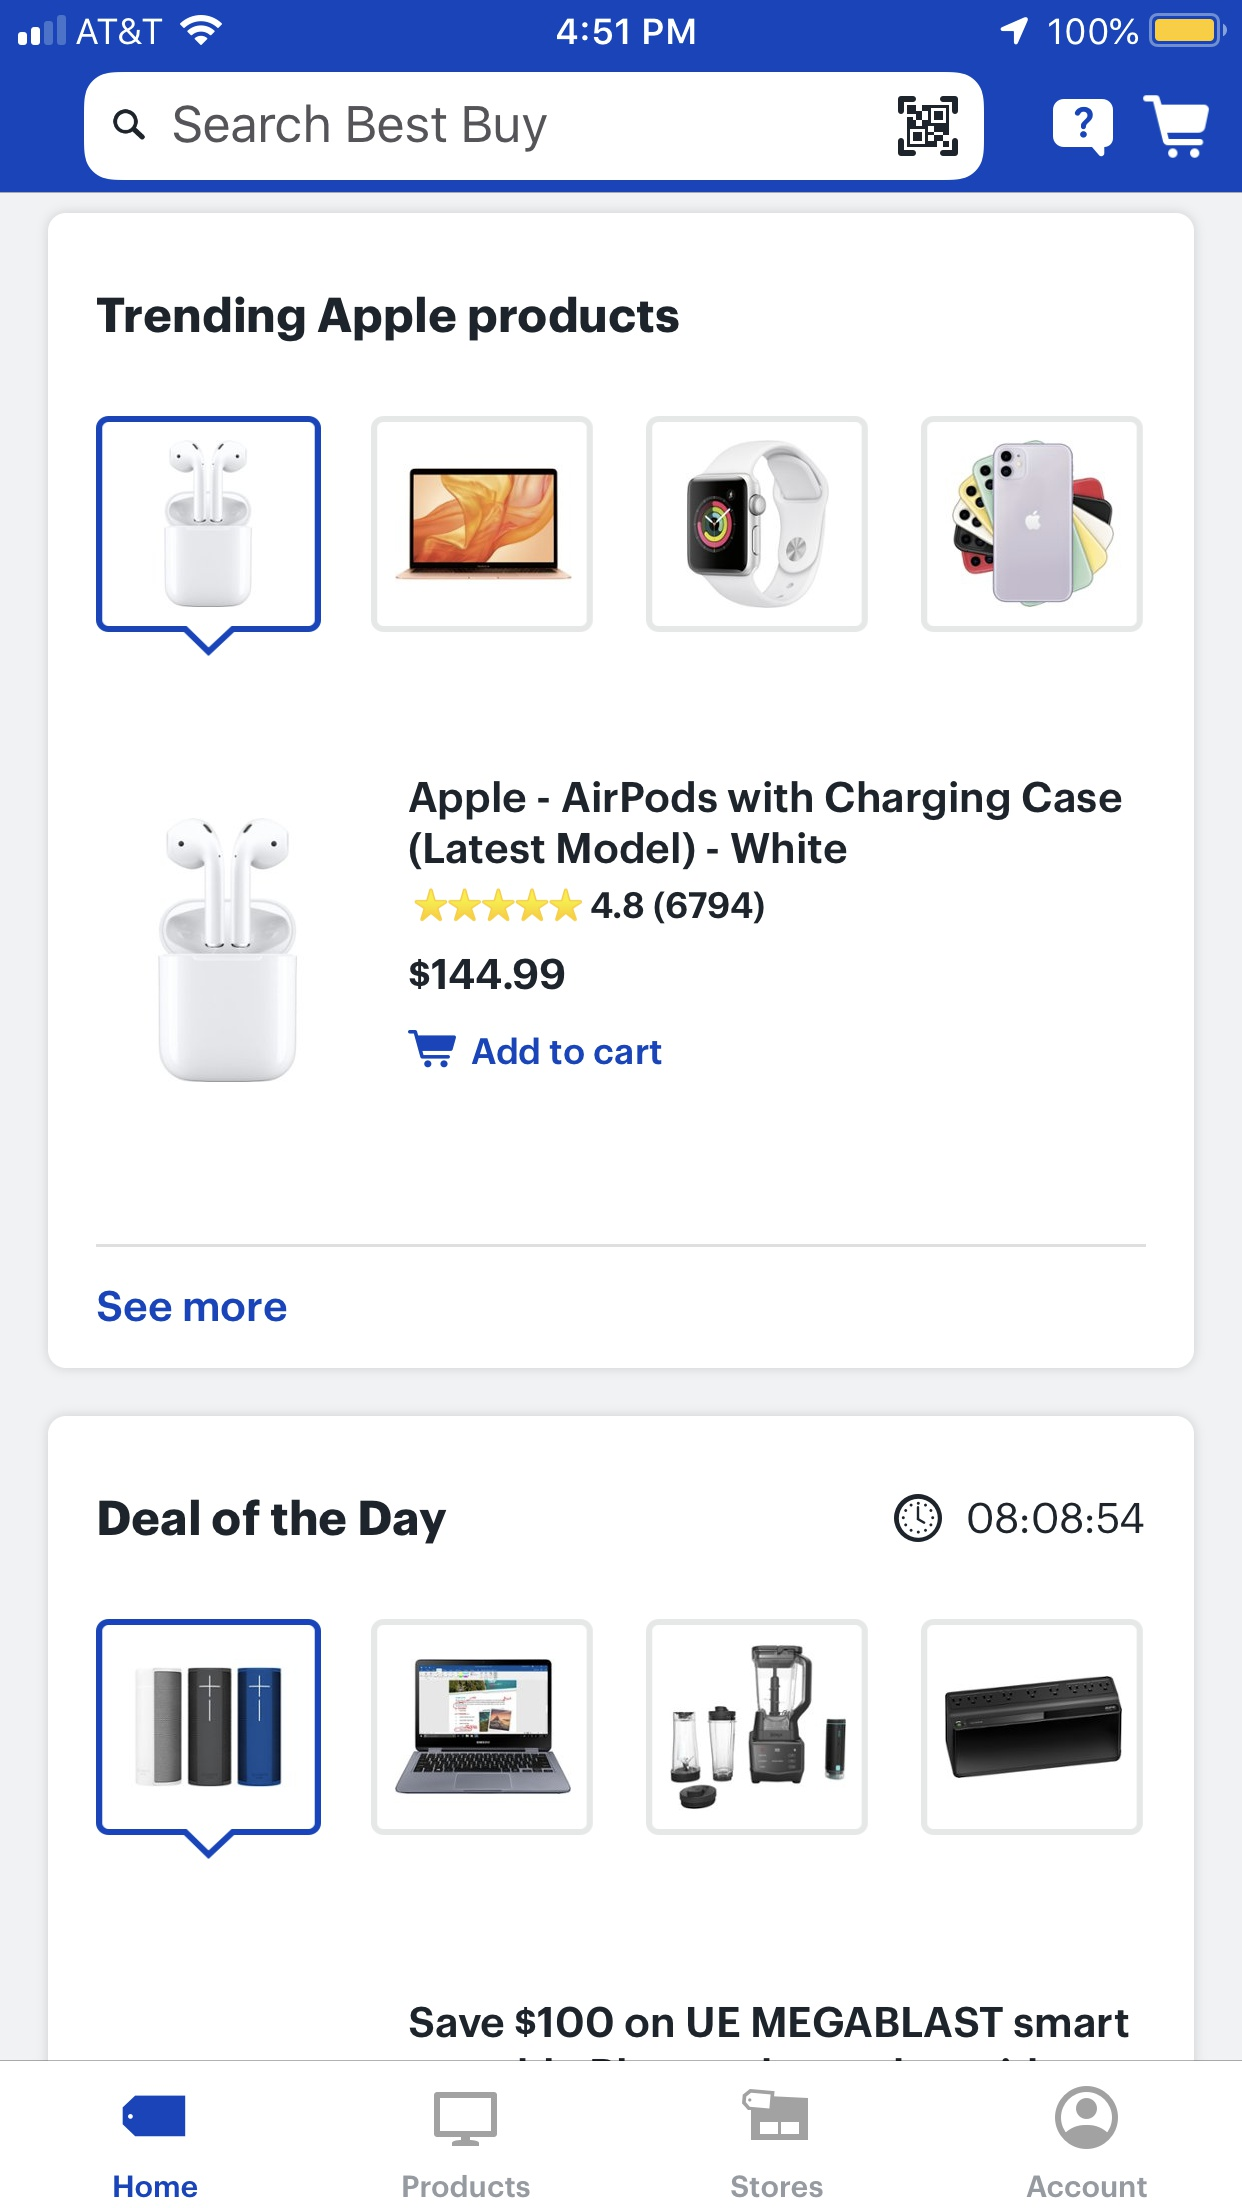EditText: (85, 73, 986, 180)
Icon: (414, 887, 582, 924), (1143, 96, 1210, 161), (1054, 2085, 1119, 2150), (1052, 99, 1115, 158), (121, 2094, 187, 2137), (893, 1494, 943, 1542), (408, 1030, 456, 1069), (114, 111, 146, 141)
Image: (96, 1618, 323, 1859), (96, 416, 321, 657), (372, 1618, 594, 1836), (921, 1618, 1143, 1836), (372, 416, 594, 632), (646, 416, 869, 632), (921, 416, 1143, 632), (646, 1620, 869, 1836), (158, 817, 299, 1084), (898, 96, 958, 158), (434, 2091, 499, 2147), (742, 2088, 808, 2141)
Text: (408, 779, 1122, 870), (97, 296, 679, 343), (409, 2005, 1131, 2040), (174, 105, 547, 153), (99, 1498, 447, 1545), (97, 1291, 288, 1322), (590, 890, 764, 925), (968, 1501, 1145, 1535), (472, 1037, 663, 1066), (409, 958, 566, 990), (403, 2175, 532, 2199), (1027, 2175, 1148, 2197), (731, 2175, 823, 2199), (114, 2175, 199, 2197)
UpperTaskBar: (2, 2, 1242, 49)
